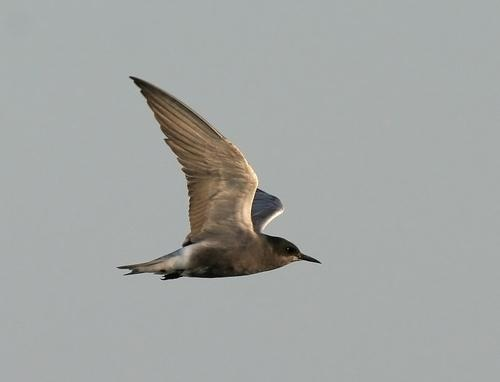bird: (113, 74, 324, 283)
